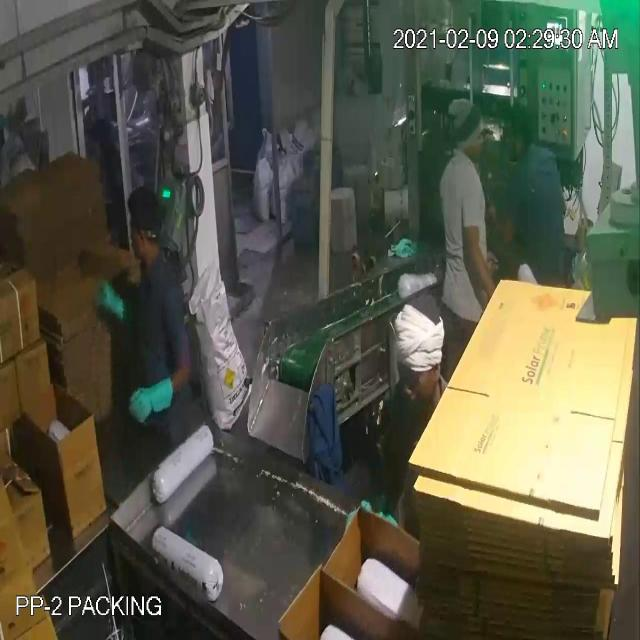gloves: (116, 369, 188, 430), (91, 266, 137, 332)
no-gloves: (448, 216, 506, 309)
